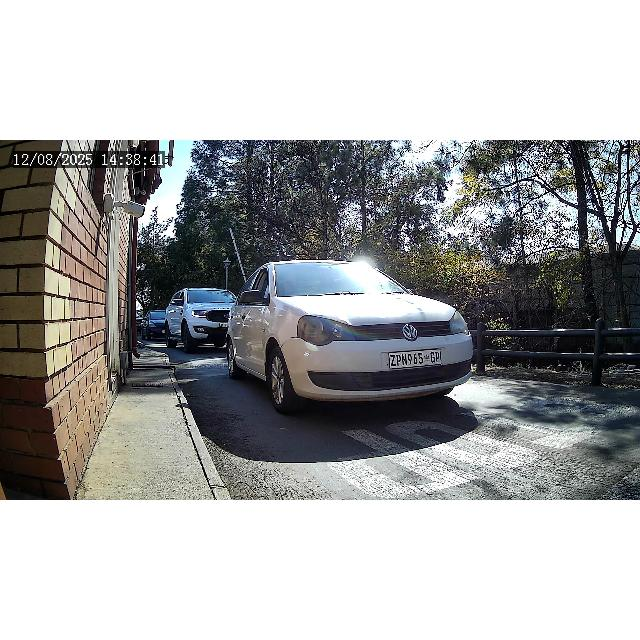car: (224, 258, 476, 414), (164, 288, 236, 352)
plate: (386, 348, 442, 368)
